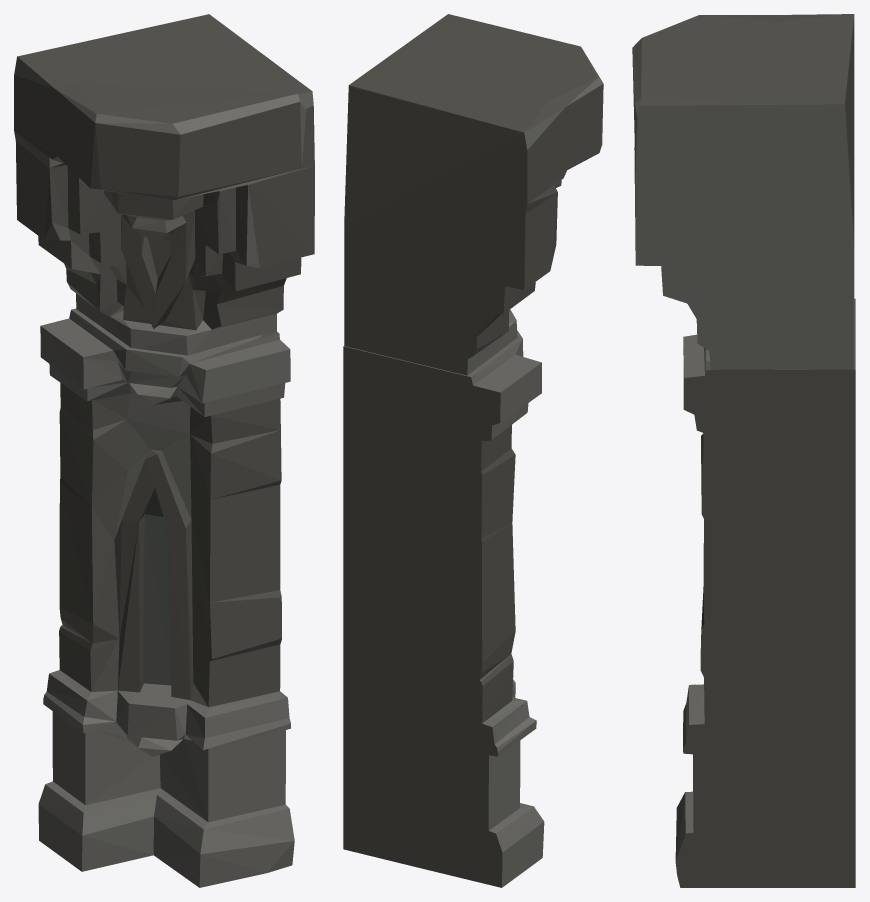
Rendered from MDungeon_PillarSmall_Med_Quater.FBX.
The picture shows the model from 3 angles, left to right: view 1: azimuth 30°, elevation 25°; view 2: azimuth 150°, elevation 25°; view 3: azimuth 270°, elevation 25°; orthographic projection. The views are drawn at different scales.
Parts seen in each view (by area): view 1: MDungeon_PillarSmall_Med_Quater_LOD0; view 2: MDungeon_PillarSmall_Med_Quater_LOD0; view 3: MDungeon_PillarSmall_Med_Quater_LOD0.
Part boxes in pixels (x1=…): MDungeon_PillarSmall_Med_Quater_LOD0: x1=14, y1=14, x2=314, y2=887; MDungeon_PillarSmall_Med_Quater_LOD0: x1=343, y1=14, x2=603, y2=887; MDungeon_PillarSmall_Med_Quater_LOD0: x1=632, y1=14, x2=855, y2=887.
Size of what is drawn, in the model's own units: 1.52 by 6.01 by 1.55.
